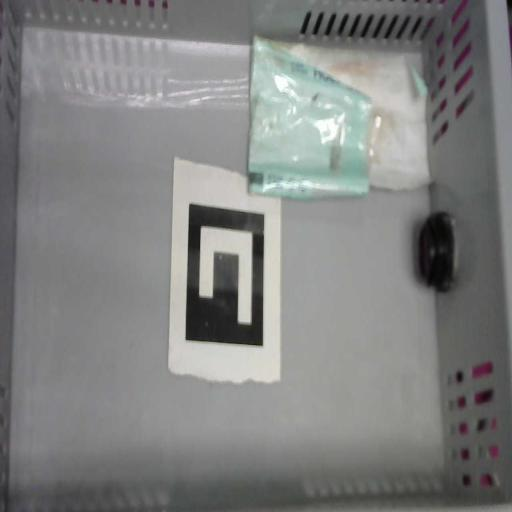QR: (185, 203, 264, 347)
triple_syringe: (254, 34, 427, 193)
